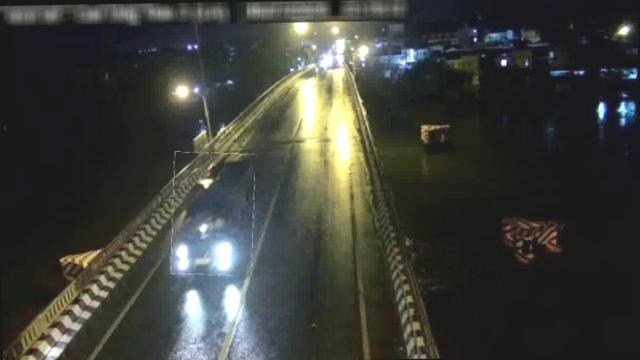Truck: (170, 151, 255, 275)
